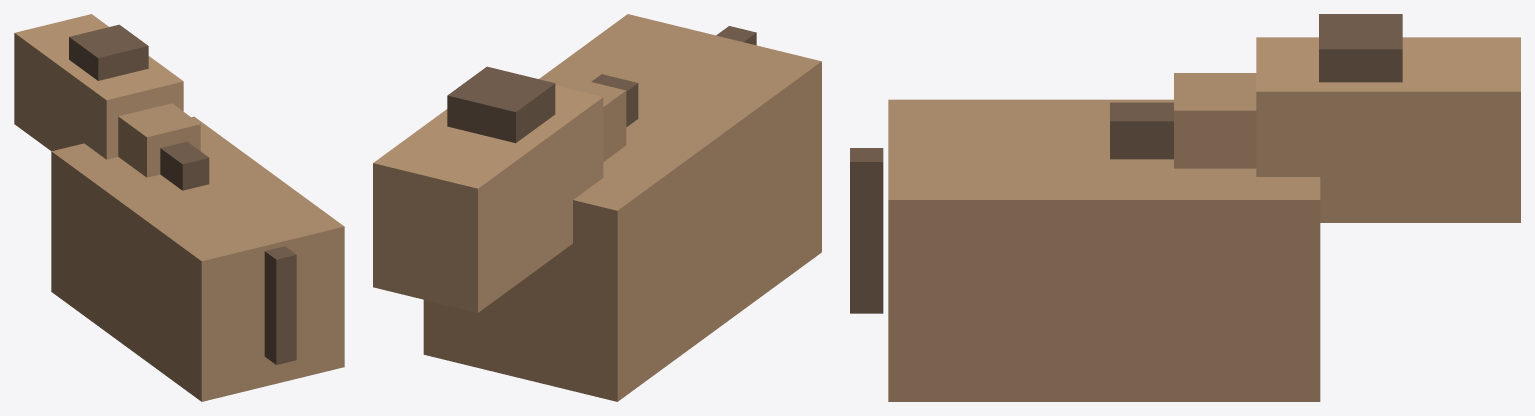
File: horse.glb
The picture shows the model from 3 angles, left to right: view 1: azimuth 30°, elevation 25°; view 2: azimuth 150°, elevation 25°; view 3: azimuth 270°, elevation 25°; orthographic projection. The views are drawn at different scales.
Parts seen in each view (by area): view 1: body, headmesh, saddle, tail, muzzle, mane; view 2: body, headmesh, muzzle, saddle, mane, tail; view 3: body, headmesh, saddle, muzzle, tail, mane.
Part boxes in pixels (x1,y1,x2,y2): body: (51,116,344,401); headmesh: (14,14,183,159); saddle: (118,103,200,177); tail: (264,246,296,364); muzzle: (69,24,148,80); mane: (160,141,209,190); body: (423,14,821,401); headmesh: (373,85,603,312); muzzle: (447,66,555,143); saddle: (543,72,626,161); mane: (591,74,638,127); tail: (716,26,756,45); body: (888,99,1320,401); headmesh: (1256,37,1520,222); saddle: (1174,73,1256,168); muzzle: (1319,14,1402,82); tail: (850,148,883,313); mane: (1110,102,1173,159).
Size of the model in its own units: 0.85 by 1.27 by 2.41.
